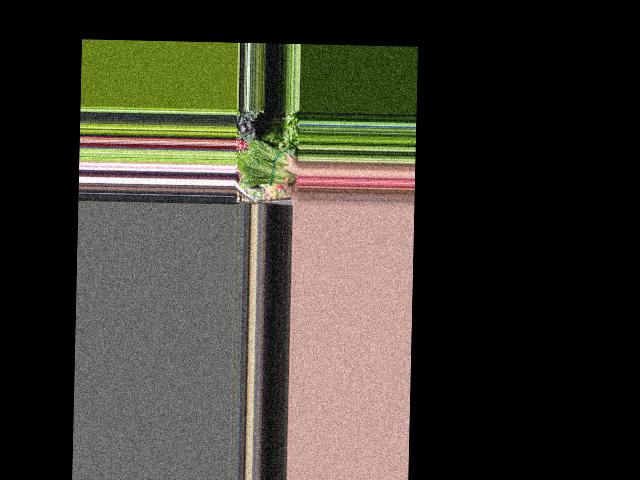lettuce: (239, 139, 299, 187)
